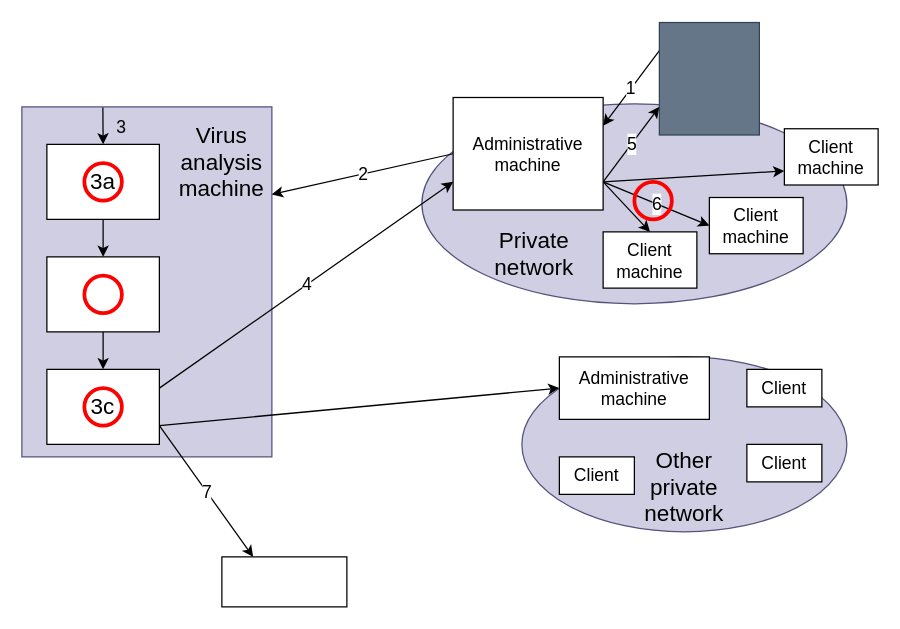
This 900x629 diagram has some shape labels left out. Here are the shapes that lost their labels. From the top down, the box of each, then its label:
(658, 21, 759, 135): Virus-infected client machine
(46, 256, 159, 332): 3b
(221, 556, 347, 607): Individual user
